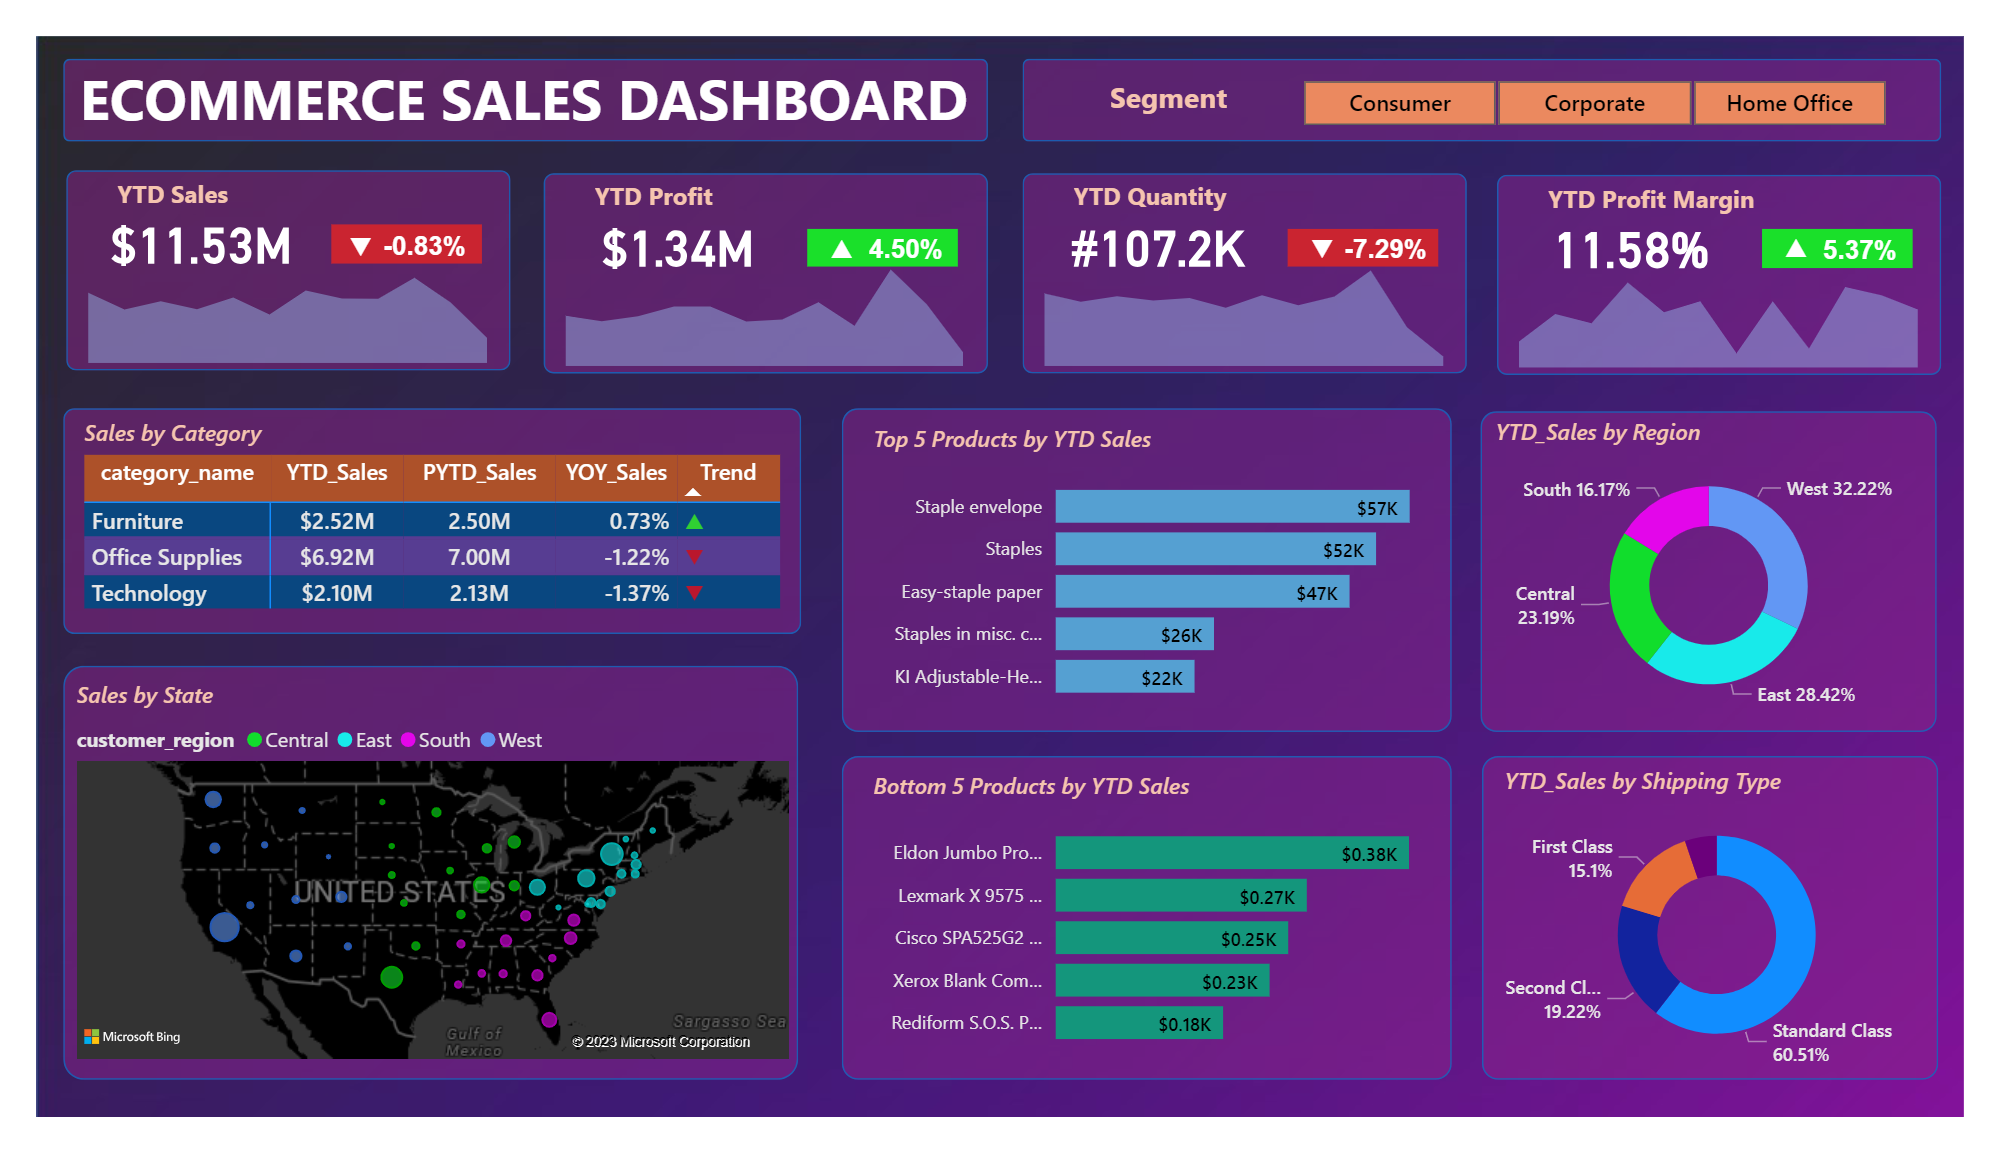

The page's visual inventory and layout, read from the dashboard file:
{"tool":"powerbi","page":{"name":"Page 1","canvas":[1280,720],"ordinal":0},"visuals":[{"type":"shape","box":[18.2,15.1,614.3,54.5],"z":0},{"type":"textbox","box":[24.2,10.6,614.3,63.5],"z":1000},{"type":"shape","box":[20.2,88.8,295,133],"z":2000},{"type":"shape","box":[195.7,125.1,99.9,25.7],"z":3000},{"type":"card","fields":{"Values":["ecommerce_data.YTD_Sales"]},"box":[38.3,106.9,142.2,59],"z":4000},{"type":"areaChart","fields":{"Category":["Calendar.Month"],"Y":["Sum(ecommerce_data.sales_per_order)"]},"box":[20.2,137.2,293.5,84.7],"z":5000},{"type":"card","fields":{"Values":["ecommerce_data.YOY_Sales"]},"box":[219.9,126.6,75.7,27.2],"z":6000},{"type":"card","fields":{"Values":["ecommerce_data.Sales_Icon"]},"box":[197.2,126.6,36.3,25.7],"z":7000},{"type":"textbox","box":[48.9,88.8,92.3,40.9],"z":8000},{"type":"shape","box":[336.8,90.7,295,133],"z":9000},{"type":"shape","box":[512.4,127.6,99.9,25.7],"z":10000},{"type":"card","fields":{"Values":["ecommerce_data.YTD_Profit"]},"box":[355,108.8,142.2,59],"z":11000},{"type":"areaChart","fields":{"Category":["Calendar.Month"],"Y":["Sum(ecommerce_data.profit_per_order)"]},"box":[336.8,139.1,293.5,84.7],"z":12000},{"type":"card","fields":{"Values":["ecommerce_data.YOY_Profit"]},"box":[539.6,129.1,75.7,27.2],"z":13000},{"type":"card","fields":{"Values":["ecommerce_data.Profit_Icon"]},"box":[516.9,127.6,36.3,25.7],"z":14000},{"type":"textbox","box":[365.6,89.8,101.4,42.4],"z":15000},{"type":"shape","box":[655.5,90.6,295,133],"z":16000},{"type":"shape","box":[831.1,127.5,99.9,25.7],"z":17000},{"type":"card","fields":{"Values":["ecommerce_data.YTD_Concatenated_Qty"]},"box":[673.6,108.8,142.2,59],"z":18000},{"type":"areaChart","fields":{"Category":["Calendar.Month"],"Y":["Sum(ecommerce_data.order_quantity)"]},"box":[655.5,139,293.5,84.7],"z":19000},{"type":"card","fields":{"Values":["ecommerce_data.YOY_Qty"]},"box":[858.3,129,75.7,27.2],"z":20000},{"type":"card","fields":{"Values":["ecommerce_data.Qty_Icon"]},"box":[835.6,127.5,36.3,25.7],"z":21000},{"type":"textbox","box":[683.9,90.3,119.5,42.4],"z":22000},{"type":"shape","box":[970.1,91.5,295,133],"z":23000},{"type":"shape","box":[1145.7,128.4,99.9,25.7],"z":24000},{"type":"card","fields":{"Values":["ecommerce_data.YTD_Profit_Margin"]},"box":[988.2,109.7,142.2,59],"z":25000},{"type":"areaChart","fields":{"Category":["Calendar.Month"],"Y":["ecommerce_data.Profit_Margin"]},"box":[970.1,139.9,293.5,84.7],"z":26000},{"type":"card","fields":{"Values":["ecommerce_data.YOY_Profit_Margin"]},"box":[1172.9,129.9,75.7,27.2],"z":27000},{"type":"card","fields":{"Values":["ecommerce_data.Profit_Margin_Icon"]},"box":[1150.2,128.4,36.3,25.7],"z":28000},{"type":"textbox","box":[999.1,91.8,169.5,42.4],"z":29000},{"type":"shape","box":[18.2,247.1,490,150],"z":30000},{"type":"pivotTable","title":"Sales by Category","fields":{"Rows":["ecommerce_data.category_name"],"Values":["ecommerce_data.YTD_Sales","ecommerce_data.PYTD_Sales","ecommerce_data.YOY_Sales","ecommerce_data.Sales_Icon"]},"box":[27.2,253.2,475.1,137.7],"z":31000},{"type":"shape","box":[17.7,418.1,488.7,275.4],"z":32000},{"type":"map","title":"Sales by State","fields":{"Y":["us_state_long_lat_codes.latitude"],"X":["us_state_long_lat_codes.longitude"],"Size":["ecommerce_data.YTD_Sales"],"Series":["ecommerce_data.customer_region"]},"box":[22.2,427.2,482.6,257.2],"z":33000},{"type":"shape","box":[534.9,247.2,405.3,214.8],"z":34000},{"type":"shape","box":[534.9,478.2,405.3,214.8],"z":35000},{"type":"barChart","title":"Top 5 Products by YTD Sales","fields":{"Category":["ecommerce_data.product_name"],"Y":["ecommerce_data.YTD_Sales"]},"box":[551.3,256.8,377.6,196.3],"z":36000},{"type":"barChart","title":"Bottom 5 Products by YTD Sales","fields":{"Category":["ecommerce_data.product_name"],"Y":["ecommerce_data.YTD_Sales"]},"box":[551.3,487.1,377.6,196.3],"z":37000},{"type":"shape","box":[959.1,248.6,302.6,213.4],"z":38000},{"type":"shape","box":[960.5,478.2,302.6,214.8],"z":39000},{"type":"donutChart","title":"YTD_Sales by Region","fields":{"Category":["ecommerce_data.customer_region"],"Y":["ecommerce_data.YTD_Sales"]},"box":[963.6,252.2,293.1,205.3],"z":40000},{"type":"donutChart","title":"YTD_Sales by Shipping Type","fields":{"Y":["ecommerce_data.YTD_Sales"],"Category":["ecommerce_data.shipping_type"]},"box":[969.9,483.6,291.8,205.3],"z":41000},{"type":"shape","box":[655.1,15.1,609.7,54.5],"z":42000},{"type":"slicer","fields":{"Values":["ecommerce_data.customer_segment"]},"box":[815.6,22.7,436.1,41.5],"z":43000},{"type":"textbox","box":[708.1,22.7,95.3,40.9],"z":44000}]}

Visuals, with their boxes in screenshot pixels (x1, y1, x2, y2), scaled from the page's 1280x720 canvas onto the 2000x1156 screenshot:
shape: rect(28, 24, 988, 112)
textbox: rect(38, 17, 998, 119)
shape: rect(32, 143, 492, 356)
shape: rect(306, 201, 462, 242)
card - ecommerce_data.YTD_Sales: rect(60, 172, 282, 266)
areaChart - Calendar.Month x Sum(ecommerce_data.sales_per_order): rect(32, 220, 490, 356)
card - ecommerce_data.YOY_Sales: rect(344, 203, 462, 247)
card - ecommerce_data.Sales_Icon: rect(308, 203, 365, 245)
textbox: rect(76, 143, 221, 208)
shape: rect(526, 146, 987, 359)
shape: rect(801, 205, 957, 246)
card - ecommerce_data.YTD_Profit: rect(555, 175, 777, 269)
areaChart - Calendar.Month x Sum(ecommerce_data.profit_per_order): rect(526, 223, 985, 359)
card - ecommerce_data.YOY_Profit: rect(843, 207, 961, 251)
card - ecommerce_data.Profit_Icon: rect(808, 205, 864, 246)
textbox: rect(571, 144, 730, 212)
shape: rect(1024, 145, 1485, 359)
shape: rect(1299, 205, 1455, 246)
card - ecommerce_data.YTD_Concatenated_Qty: rect(1052, 175, 1275, 269)
areaChart - Calendar.Month x Sum(ecommerce_data.order_quantity): rect(1024, 223, 1483, 359)
card - ecommerce_data.YOY_Qty: rect(1341, 207, 1459, 251)
card - ecommerce_data.Qty_Icon: rect(1306, 205, 1362, 246)
textbox: rect(1069, 145, 1255, 213)
shape: rect(1516, 147, 1977, 360)
shape: rect(1790, 206, 1946, 247)
card - ecommerce_data.YTD_Profit_Margin: rect(1544, 176, 1766, 271)
areaChart - Calendar.Month x ecommerce_data.Profit_Margin: rect(1516, 225, 1974, 361)
card - ecommerce_data.YOY_Profit_Margin: rect(1833, 209, 1951, 252)
card - ecommerce_data.Profit_Margin_Icon: rect(1797, 206, 1854, 247)
textbox: rect(1561, 147, 1826, 215)
shape: rect(28, 397, 794, 638)
"Sales by Category" pivotTable: rect(42, 407, 785, 628)
shape: rect(28, 671, 791, 1113)
"Sales by State" map: rect(35, 686, 789, 1099)
shape: rect(836, 397, 1469, 742)
shape: rect(836, 768, 1469, 1113)
"Top 5 Products by YTD Sales" barChart: rect(861, 412, 1451, 727)
"Bottom 5 Products by YTD Sales" barChart: rect(861, 782, 1451, 1097)
shape: rect(1499, 399, 1971, 742)
shape: rect(1501, 768, 1974, 1113)
"YTD_Sales by Region" donutChart: rect(1506, 405, 1964, 735)
"YTD_Sales by Shipping Type" donutChart: rect(1515, 776, 1971, 1106)
shape: rect(1024, 24, 1976, 112)
slicer - ecommerce_data.customer_segment: rect(1274, 36, 1956, 103)
textbox: rect(1106, 36, 1255, 102)
